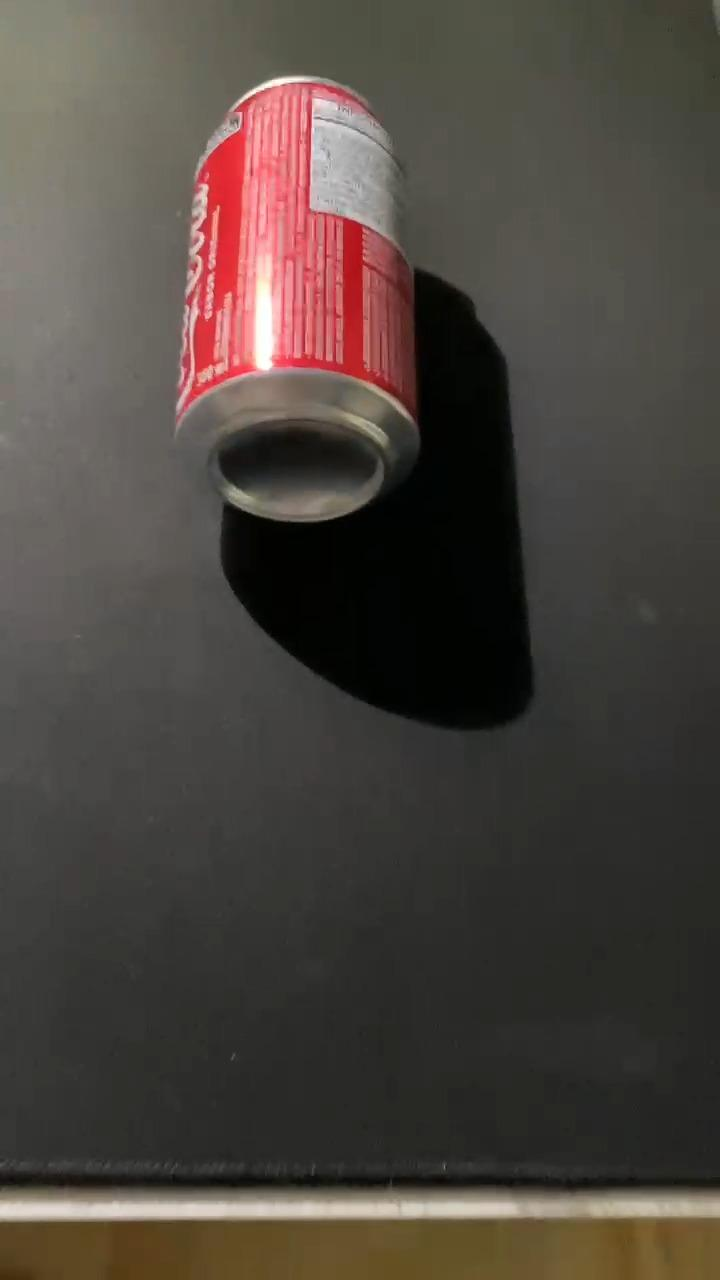coke: (172, 76, 425, 520)
